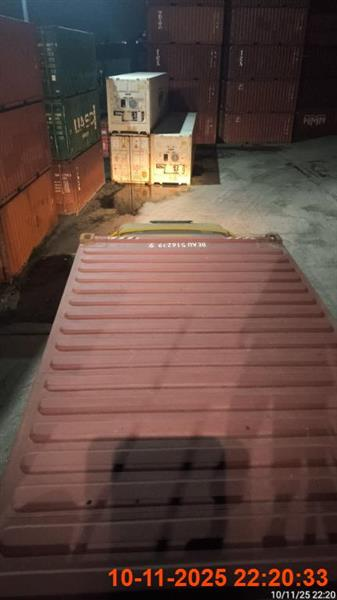broken: (0, 219, 336, 598)
